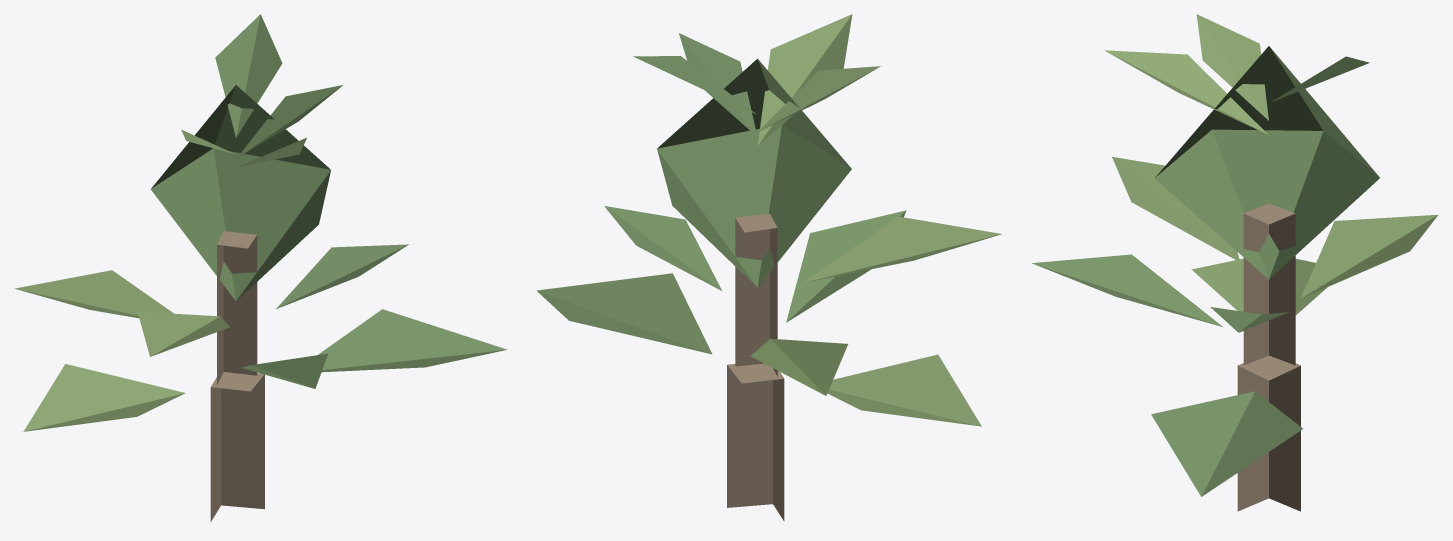
Rendered from shu.wujiaofeng@seedling__summer.glb.
3 views of the same model, side by side, from view 1: azimuth 30°, elevation 25°; view 2: azimuth 150°, elevation 25°; view 3: azimuth 270°, elevation 25° (orthographic). The views are drawn at different scales.
Parts seen in each view (by area): view 1: shu.wujiaofeng@seedling__summer; view 2: shu.wujiaofeng@seedling__summer; view 3: shu.wujiaofeng@seedling__summer.
Boxes of the visible parts, box(x1,y1,x2,y2) form: shu.wujiaofeng@seedling__summer: box(15, 14, 507, 521); shu.wujiaofeng@seedling__summer: box(537, 14, 1001, 521); shu.wujiaofeng@seedling__summer: box(1031, 14, 1438, 511).
Size of the model in its own units: 1.26 by 1.2 by 0.9071.
